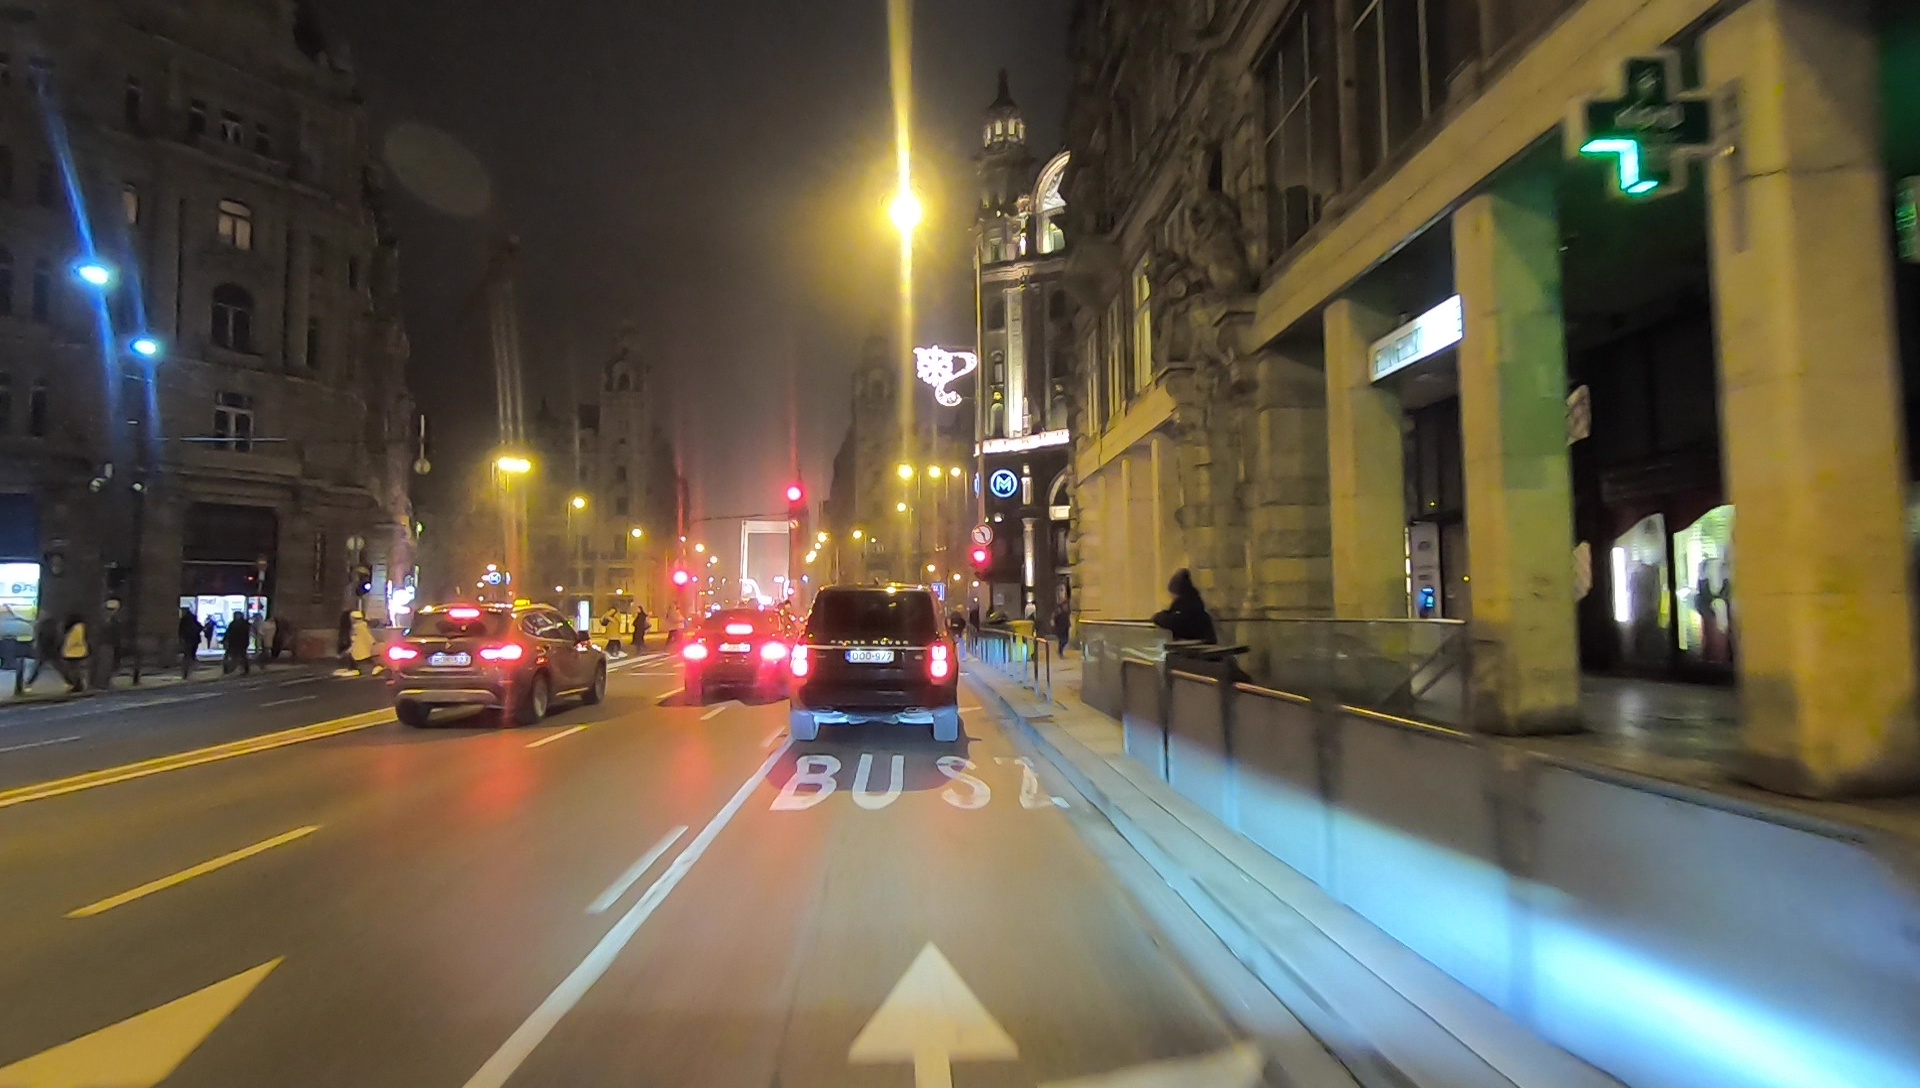person: (1160, 569, 1219, 745), (23, 609, 74, 696), (343, 611, 384, 680), (61, 610, 88, 698), (224, 610, 251, 680), (173, 606, 198, 672), (601, 604, 623, 662), (666, 602, 687, 657), (258, 613, 276, 673), (1053, 599, 1069, 658), (633, 604, 648, 658)
